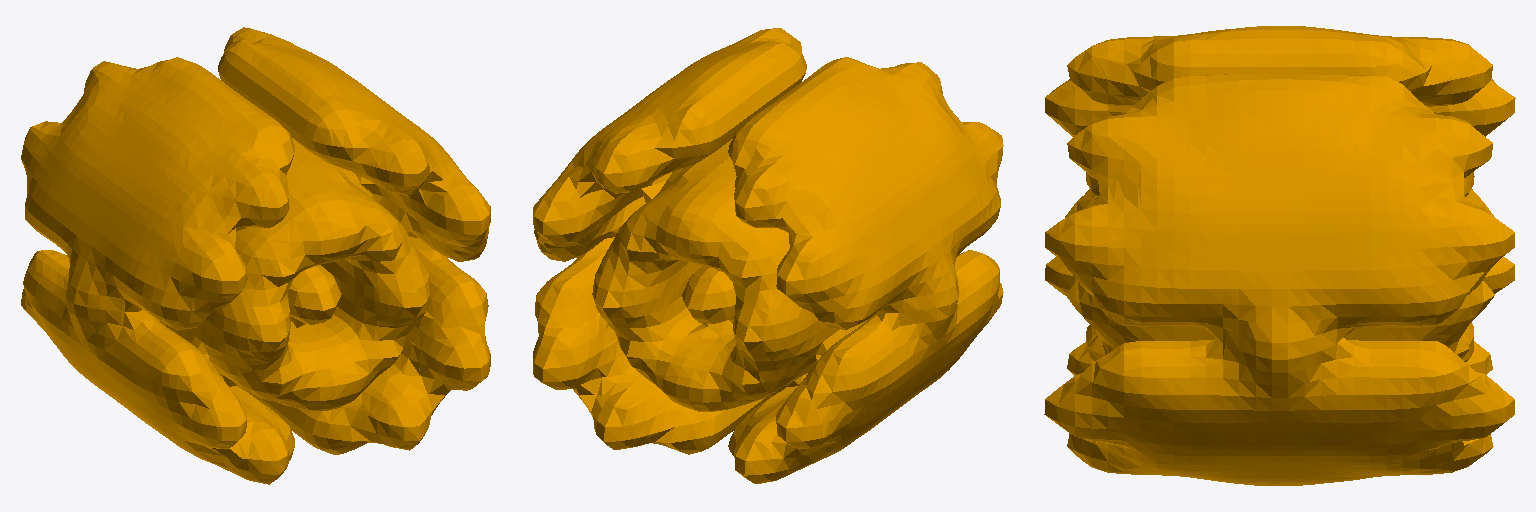
The robot description file, URDF, robot "E20_2":
<?xml version="1.0"?>
<robot name="E20_2">
  <link name="base_link">
    <visual>
      <geometry>
        <mesh filename="../../../../meshes/egad/train/E20_2.obj" />
      </geometry>
    </visual>
  </link>
</robot>

--- What the picture shows (computed from the rendered views, not written in the file) ---
The picture shows the robot from 3 angles, left to right: view 1: azimuth 30°, elevation 25°; view 2: azimuth 150°, elevation 25°; view 3: azimuth 270°, elevation 25°; orthographic projection.
Model E20_2 with 1 links and 0 joints (none), rooted at base_link, posed every joint at zero.
Visible links, largest first — view 1: base_link; view 2: base_link; view 3: base_link.
Link boxes in pixels (left/top/right/bottom): base_link: left=21, top=27, right=490, bottom=484; base_link: left=533, top=28, right=1003, bottom=483; base_link: left=1044, top=26, right=1515, bottom=485.
Size in the robot's own frame: 0.0646 by 0.0621 by 0.0586 metres.
1 mesh visuals loaded from 1 distinct referenced files (1 OBJ).